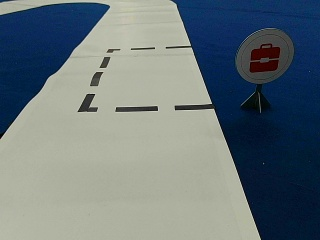company: (236, 28, 294, 82)
